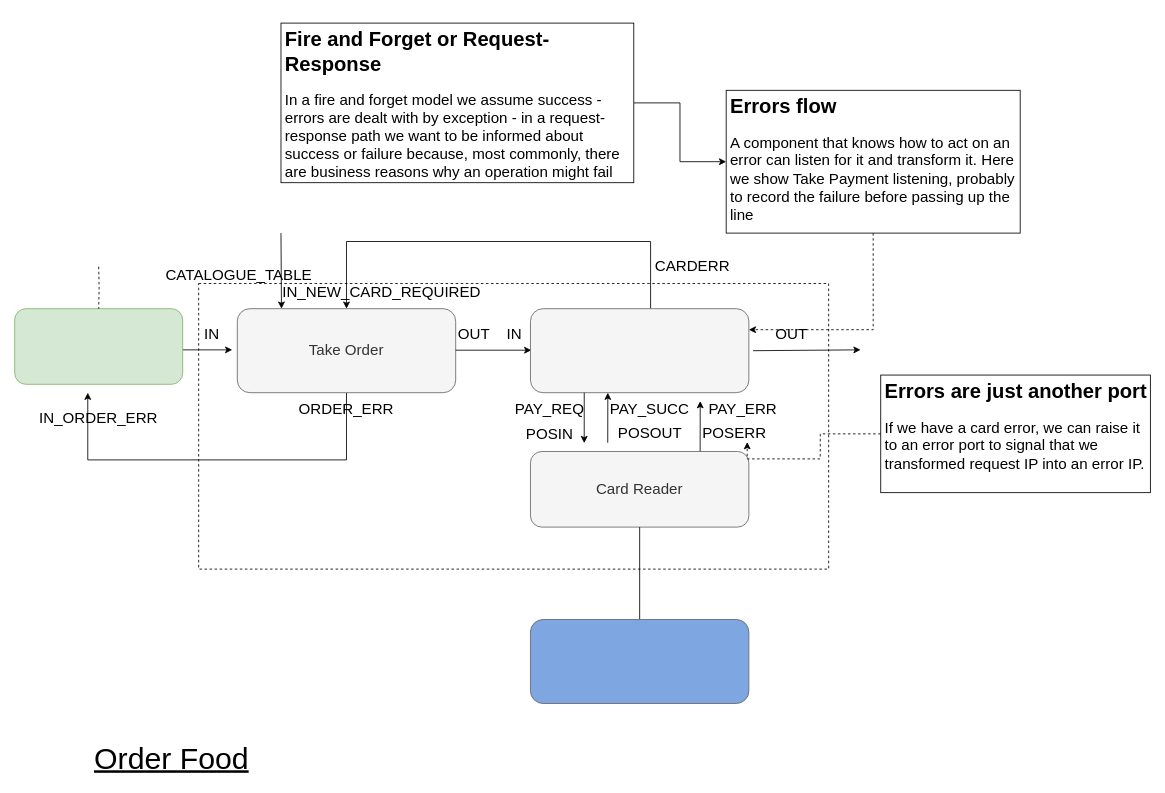
Image size: 1165x793. Some labels were removed from this diagram. The centre of each missing label's shape, as x and y in pixels:
"Credit Card Company" belongs at pixel 639 661.
"Order UI" belongs at pixel 98 346.
"Take Payment" belongs at pixel 639 350.
